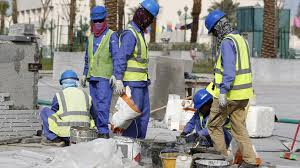Hard Hat: (203, 9, 226, 34), (193, 89, 212, 111), (141, 1, 162, 19), (89, 6, 107, 19), (59, 71, 79, 79)
High Viz: (217, 38, 253, 94), (56, 88, 91, 131), (123, 25, 150, 80), (88, 31, 114, 77)
